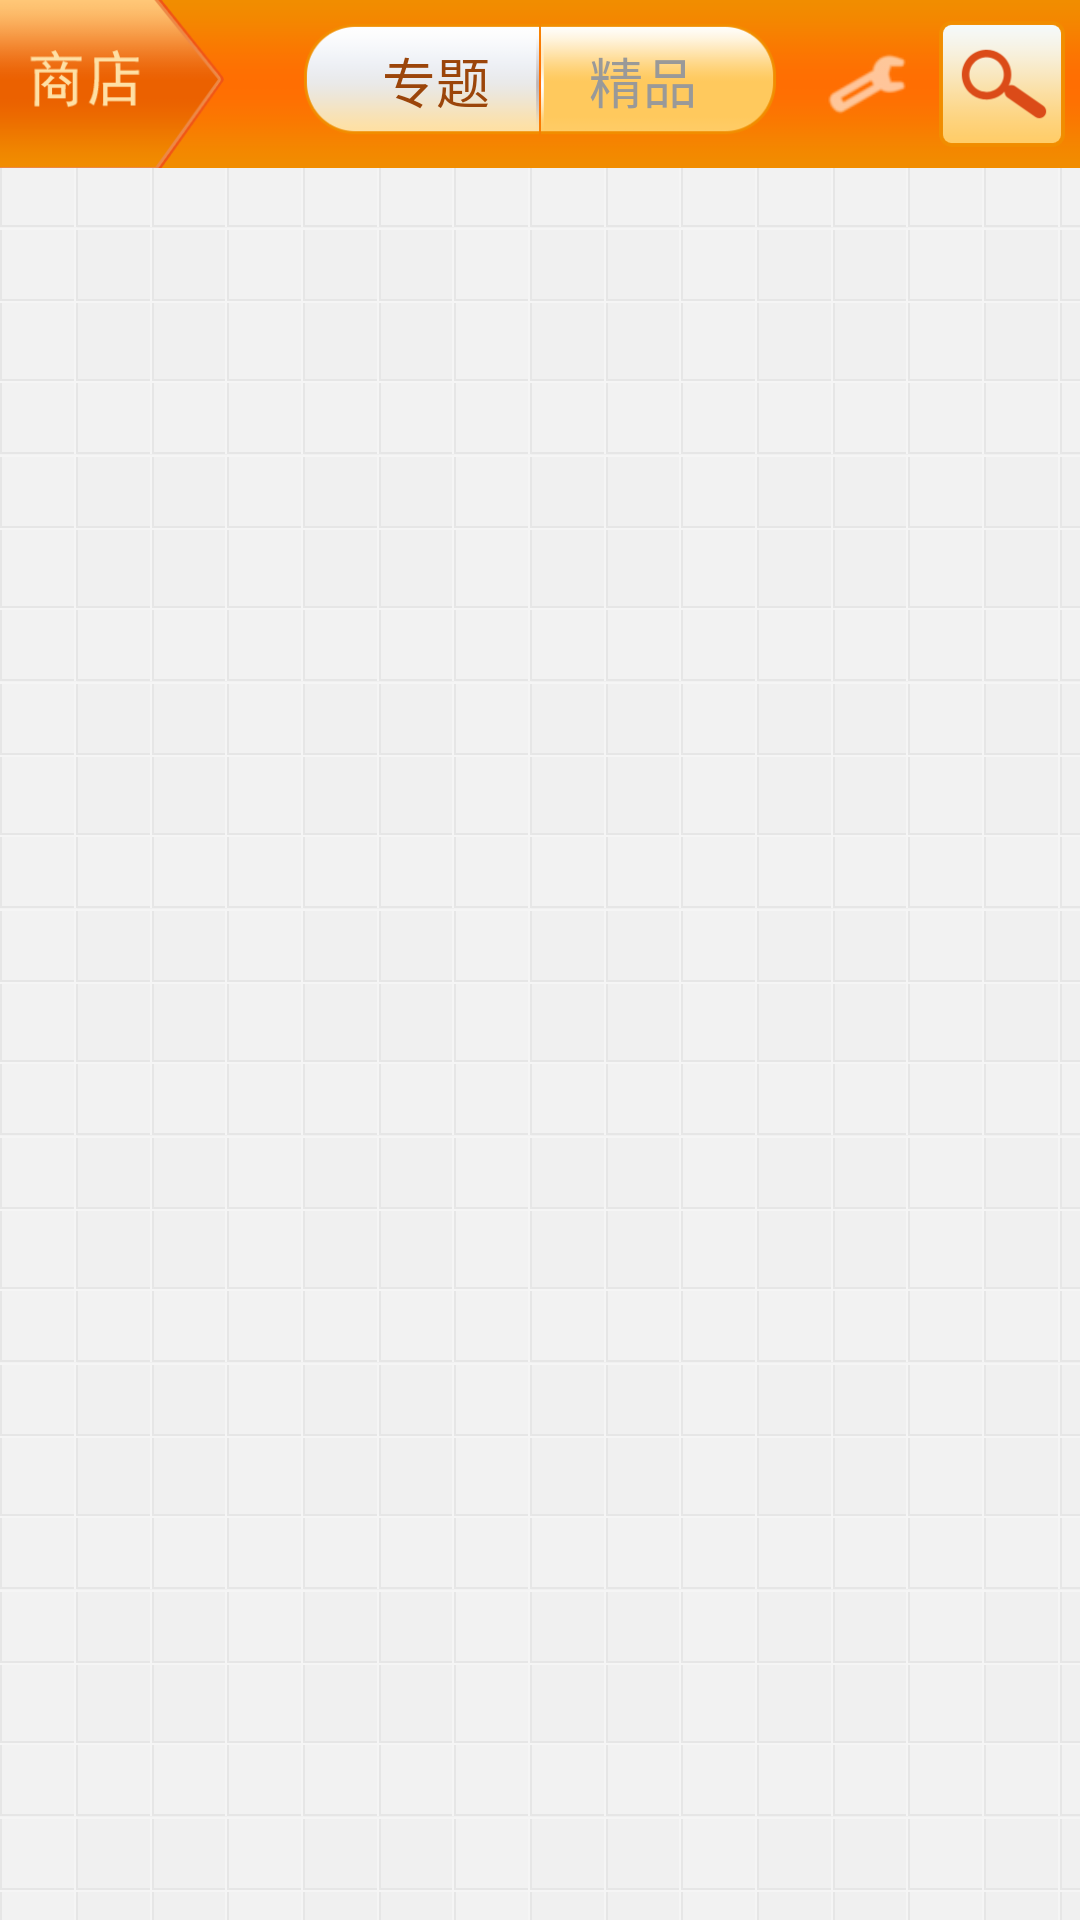

Point at icon controls on the screen. Image size 1080x1920, points as point (x, y).
search: point (1002, 84)
setting: point (867, 84)
